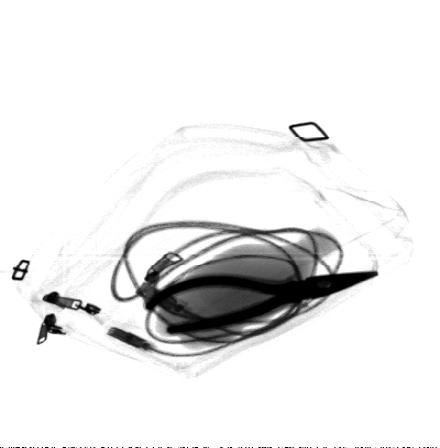Pliers: (142, 269, 381, 335)
